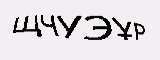Ұ: (112, 12, 135, 49)
